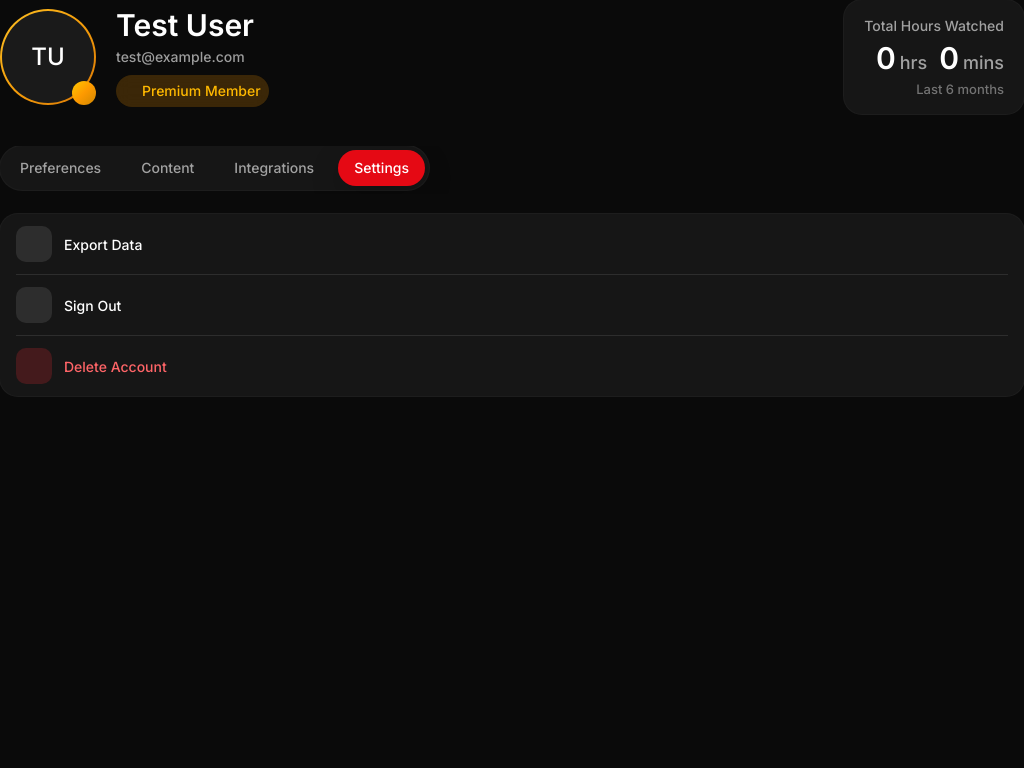
Test case: ProfilePageClient delete account › blocks active Polar subscribers until they cancel
Click the button "Delete Account".
click(34, 366)  # box x1=0 y1=336 x2=1023 y2=396
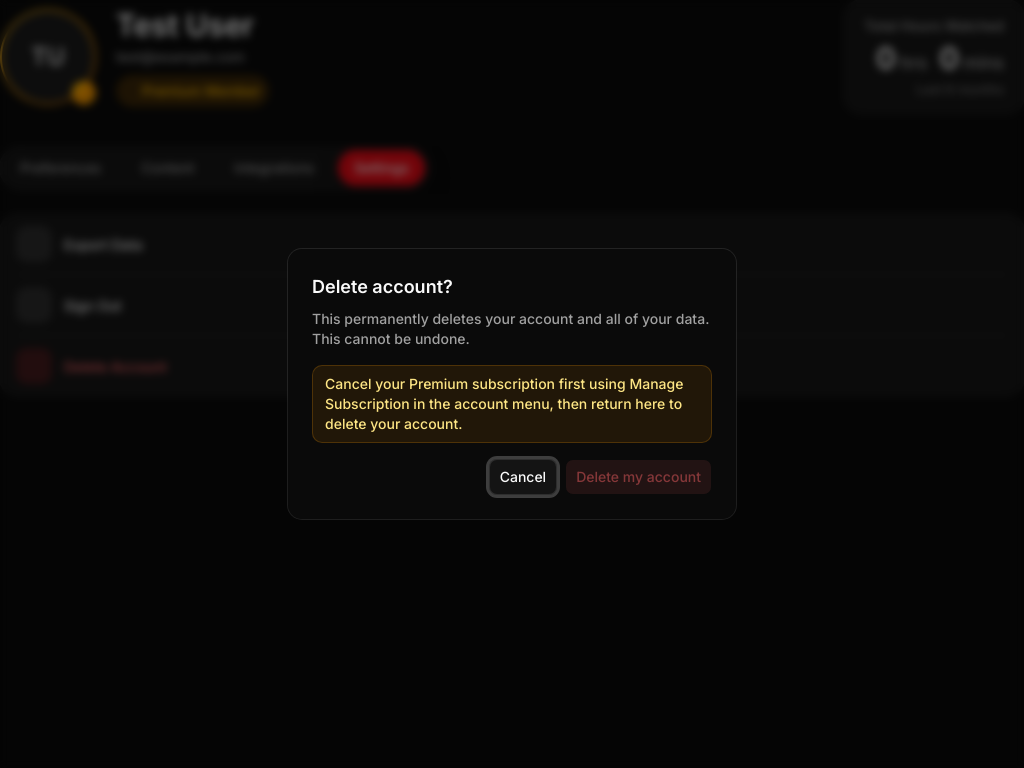
Check: the text "Manage Subscription in the account menu" is shown, box x1=325 y1=375 x2=683 y2=432
Check: the button "Delete my account" is disabled, box x1=565 y1=459 x2=712 y2=495
